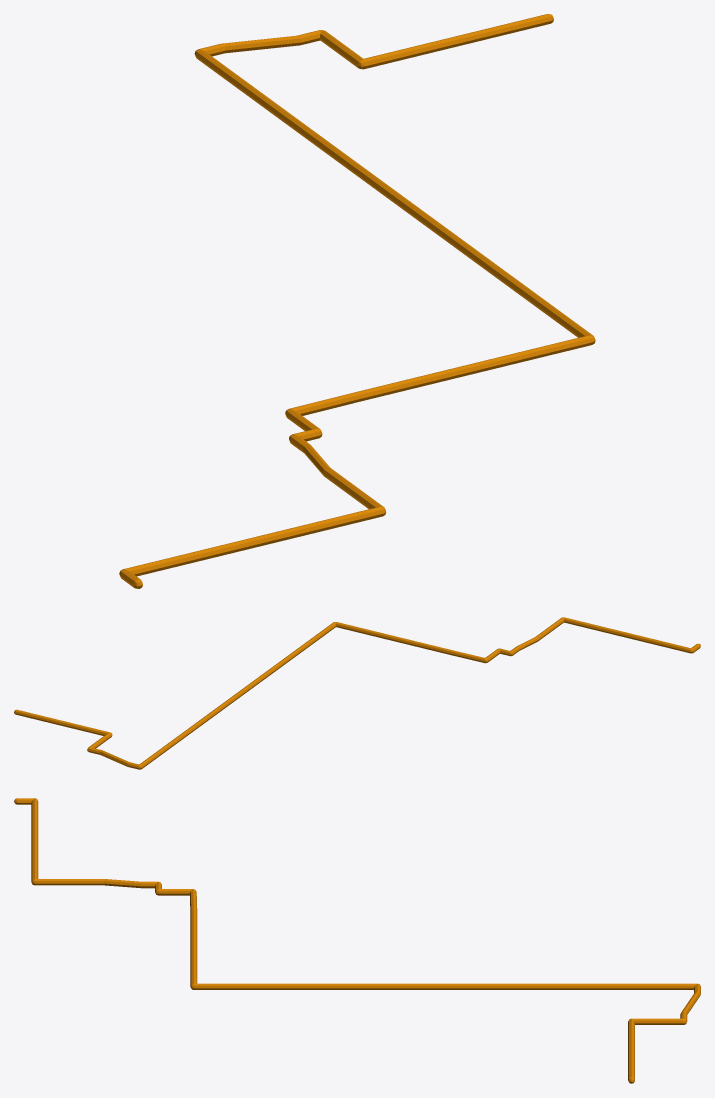
3 views of the same model, one above another, from view 1: azimuth 30°, elevation 25°; view 2: azimuth 150°, elevation 25°; view 3: azimuth 270°, elevation 25° (orthographic). The views are drawn at different scales.
Bounding box in the file's own units: 1921 × 20 × 1978.
